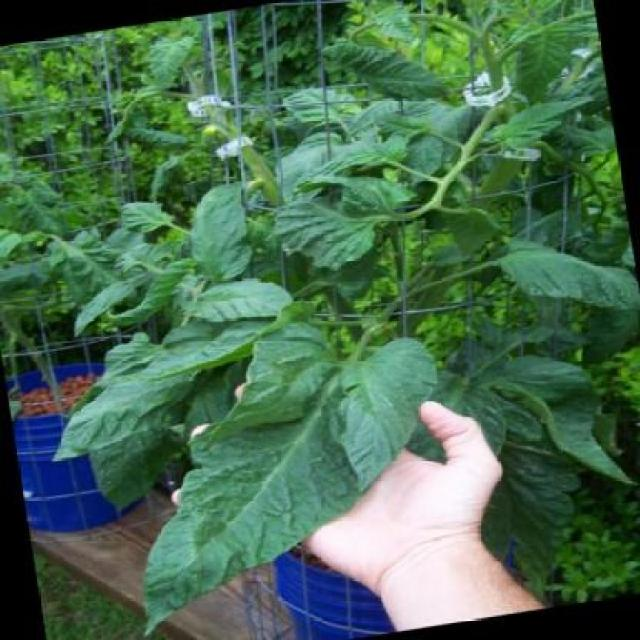Healthy Leaf: (100, 334, 454, 631), (37, 324, 261, 464), (505, 230, 637, 322), (185, 180, 272, 295), (277, 194, 388, 269), (180, 275, 309, 337), (488, 84, 598, 156), (112, 192, 180, 237)
